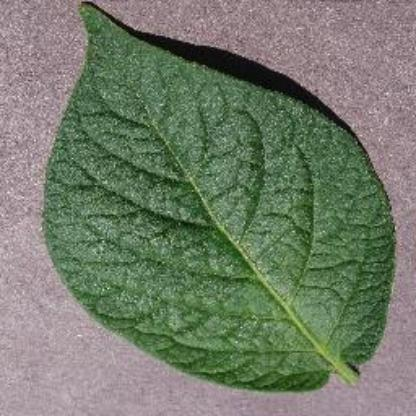Healthy-plant: (41, 0, 395, 393)
